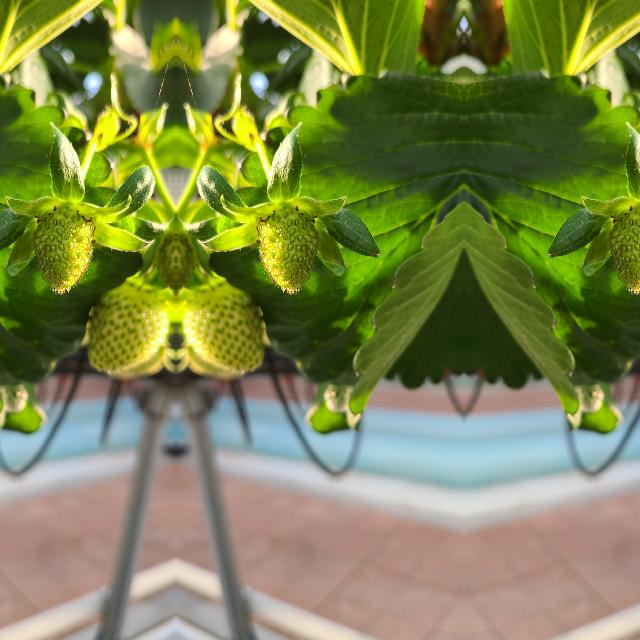Health_25: (175, 275, 265, 375), (85, 275, 175, 375), (258, 210, 316, 290), (34, 210, 92, 290), (609, 210, 640, 289)
